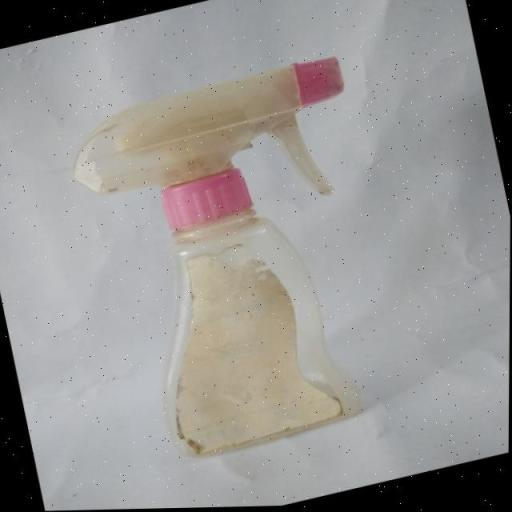plastic: (51, 44, 439, 491)
